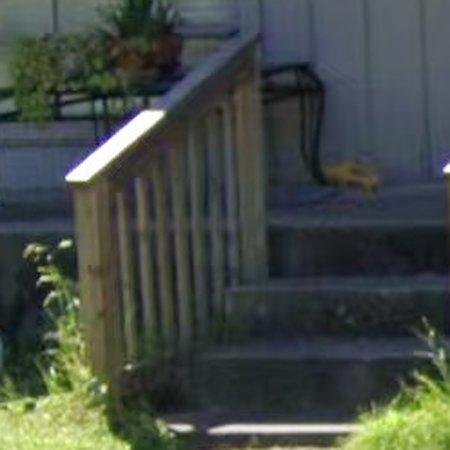stairs: (143, 273, 450, 428), (269, 185, 449, 275)
